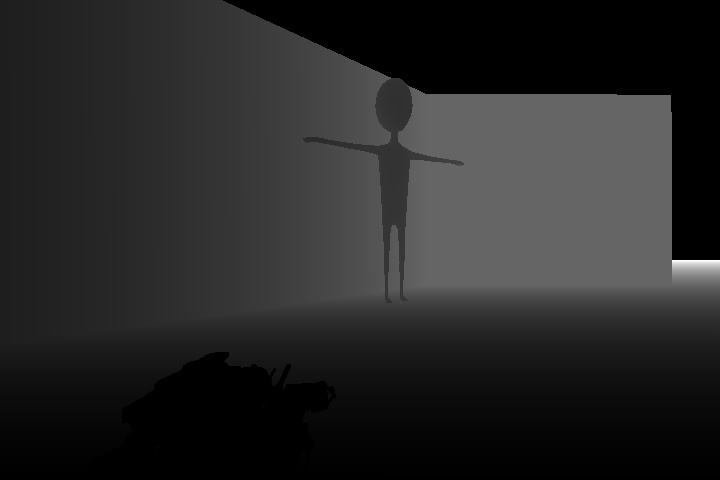alien: (299, 76, 468, 307)
